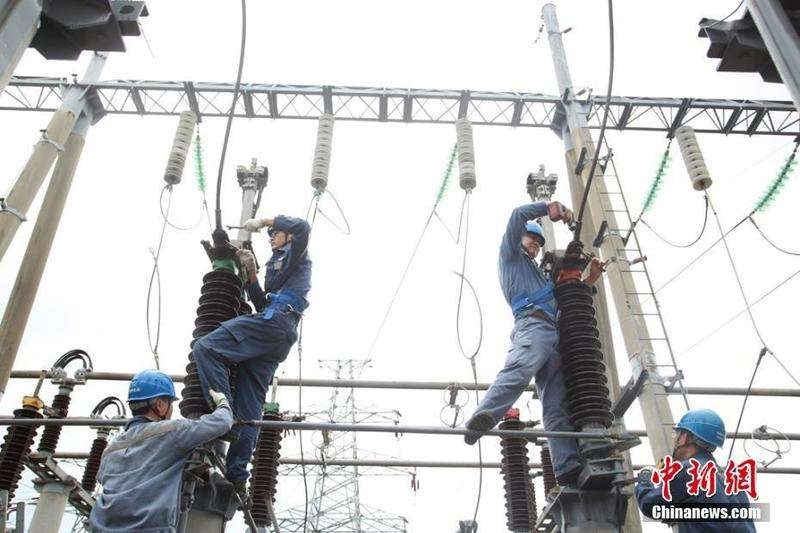blue: (123, 368, 180, 427), (672, 405, 728, 464), (516, 211, 545, 257)
